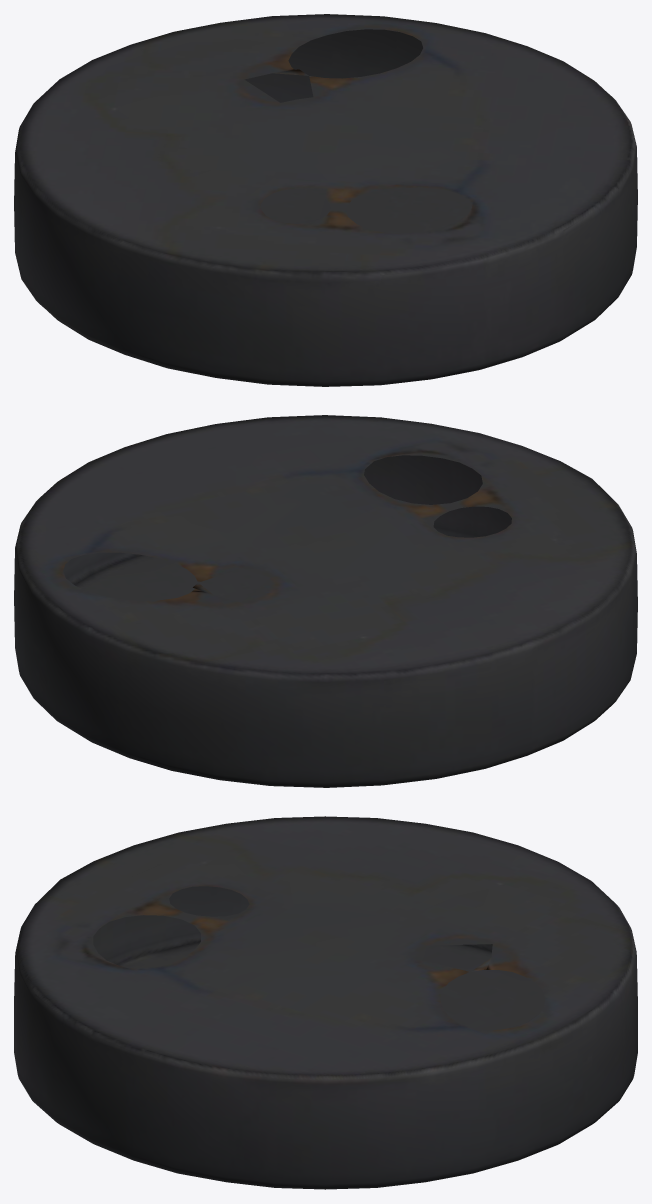
The model's file is SM_Merlin_Base_Candidate.fbx.
3 renders of one model, top to bottom at view 1: azimuth 30°, elevation 25°; view 2: azimuth 150°, elevation 25°; view 3: azimuth 270°, elevation 25°, orthographic.
Parts seen in each view (by area): view 1: SM_Merlin_Base; view 2: SM_Merlin_Base; view 3: SM_Merlin_Base.
Part boxes in pixels (left/top/right/bottom): SM_Merlin_Base: left=14, top=14, right=637, bottom=386; SM_Merlin_Base: left=14, top=415, right=637, bottom=787; SM_Merlin_Base: left=14, top=816, right=637, bottom=1189.
Bounding box in the file's own units: 24 × 24 × 5.
